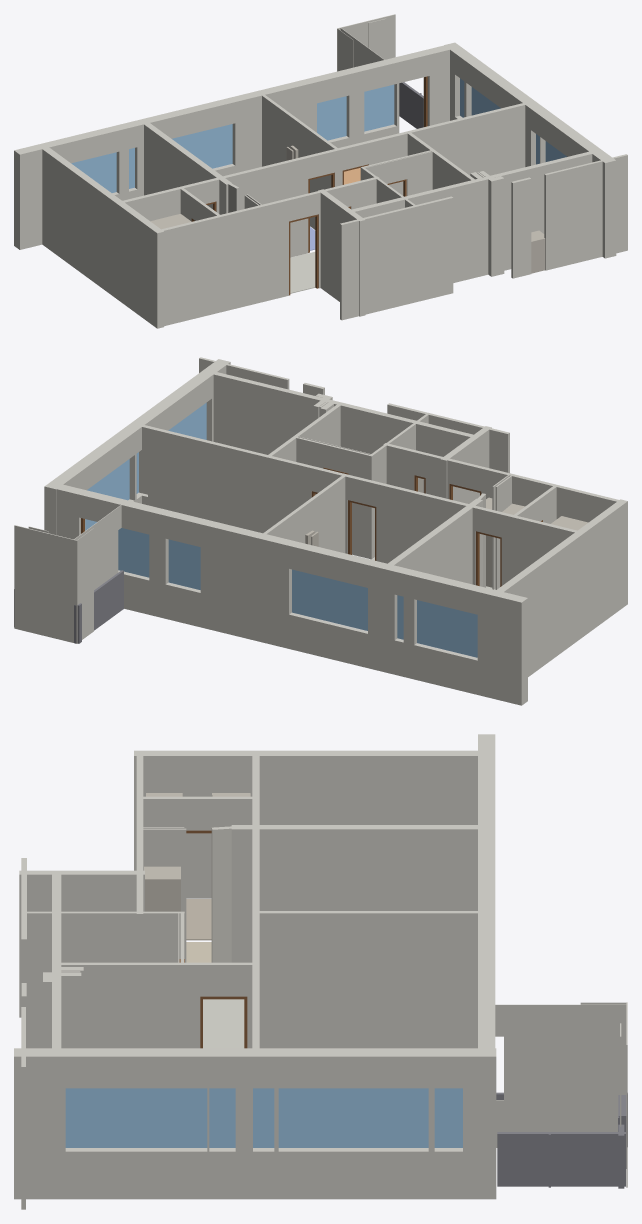
3 renders of one model, top to bottom at view 1: azimuth 30°, elevation 25°; view 2: azimuth 150°, elevation 25°; view 3: azimuth 270°, elevation 25°, orthographic. The views are drawn at different scales.
Parts seen in each view (by area): view 1: walls, window_5, window_11, window_13, window_6, floor_5_Undefined, railings, furniture_13_appliance, door_7, window_3; view 2: walls, window_5, window_6, railings, window_13, window_11, window_3, window_1; view 3: walls, window_3, window_1, railings, floor_5_Undefined, window_15, furniture_5_closet, window_9, window_16, floor_3_Storage.
Part boxes in pixels (x1,y1,x2,y2): walls: [14, 14, 627, 328]; window_5: [172, 124, 232, 168]; window_11: [364, 84, 394, 131]; window_13: [317, 96, 346, 140]; window_6: [71, 152, 116, 192]; floor_5_Undefined: [290, 252, 315, 293]; railings: [399, 82, 423, 128]; furniture_13_appliance: [531, 230, 545, 273]; door_7: [289, 214, 318, 295]; window_3: [471, 87, 500, 115]; walls: [14, 357, 627, 705]; window_5: [292, 569, 367, 630]; window_6: [417, 600, 477, 657]; railings: [14, 570, 123, 643]; window_13: [168, 539, 200, 589]; window_11: [118, 528, 149, 577]; window_3: [85, 459, 129, 530]; window_1: [168, 402, 206, 439]; walls: [14, 734, 627, 1209]; window_3: [278, 1088, 428, 1147]; window_1: [65, 1088, 207, 1147]; railings: [496, 1092, 627, 1188]; floor_5_Undefined: [203, 999, 244, 1048]; window_15: [434, 1088, 462, 1147]; furniture_5_closet: [144, 866, 180, 911]; window_9: [209, 1088, 235, 1147]; window_16: [253, 1088, 274, 1147]; floor_3_Storage: [186, 899, 211, 940].
Bounding box in the file's own units: 13.49 × 2.72 × 10.52.
